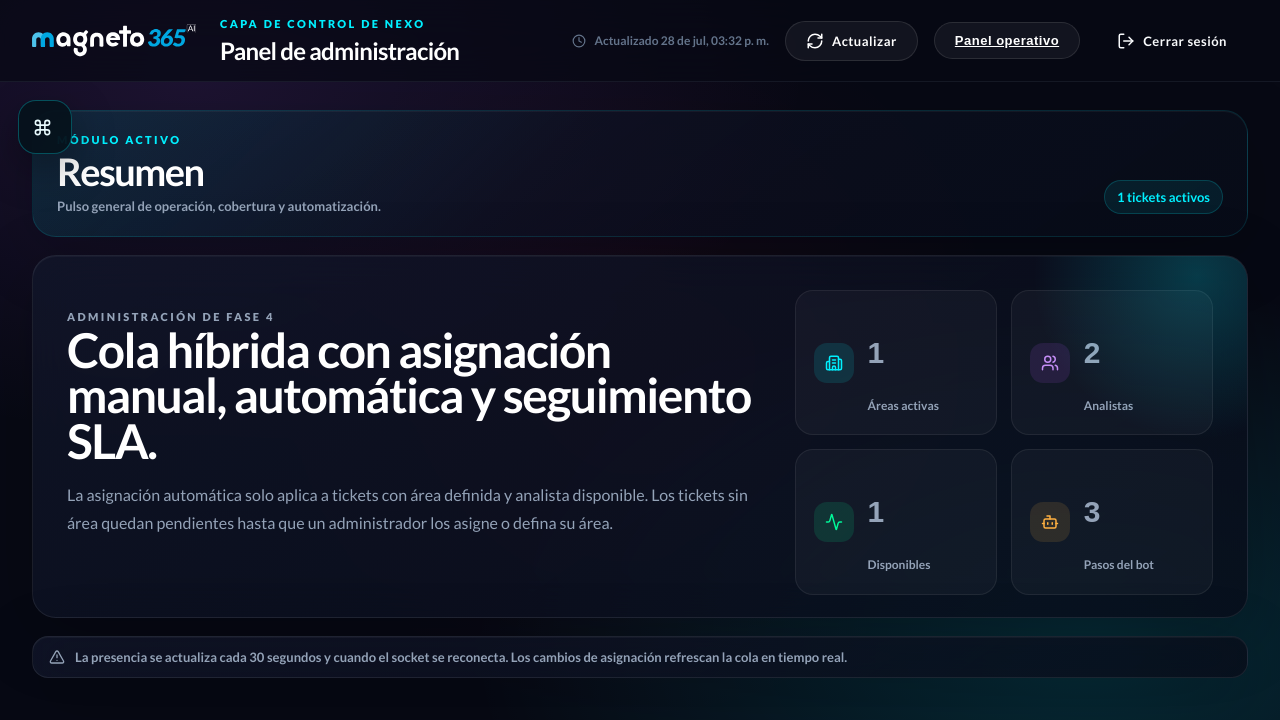
it: AdminPanel › renders the complete control-map navigation with one active module
Click the button named "abrir comandos" at (45, 127), box top-left (18, 100), bottom-right (72, 154)
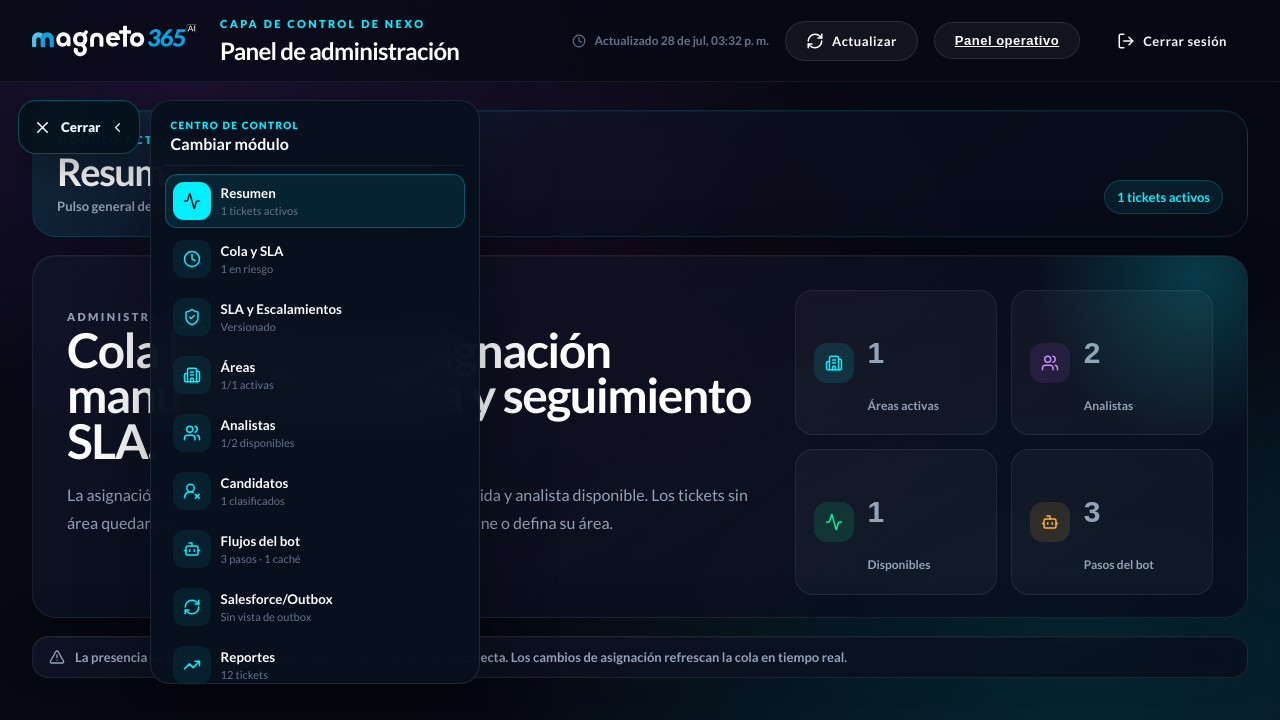
Expected: the button "Resumen 1 tickets activos" is shown, top-left (165, 174), bottom-right (465, 228)
Expected: the button "Cola y SLA 1 en riesgo" is shown, top-left (165, 232), bottom-right (465, 286)
Expected: the button "SLA y Escalamientos Versionado" is shown, top-left (165, 290), bottom-right (465, 344)
